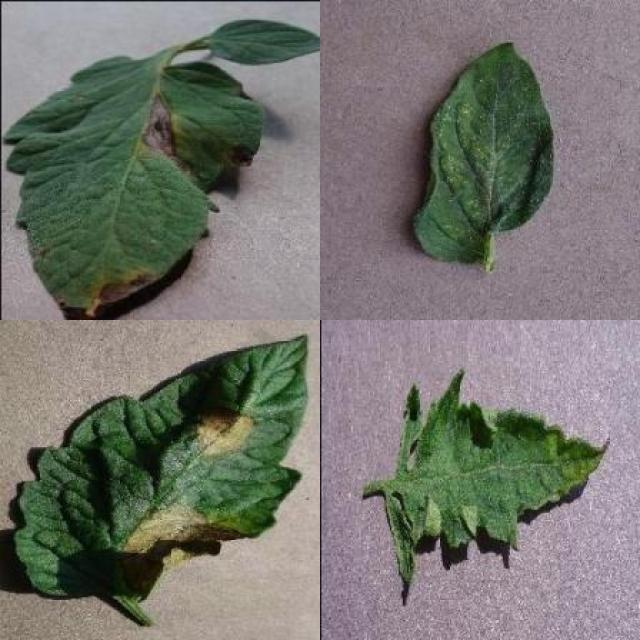Early Blight: (0, 56, 266, 317)
Healthy: (207, 18, 320, 66)
Late Blight: (12, 334, 308, 602)
Mosaic Virus: (382, 371, 612, 584)
Spider Mites: (411, 38, 556, 266)
